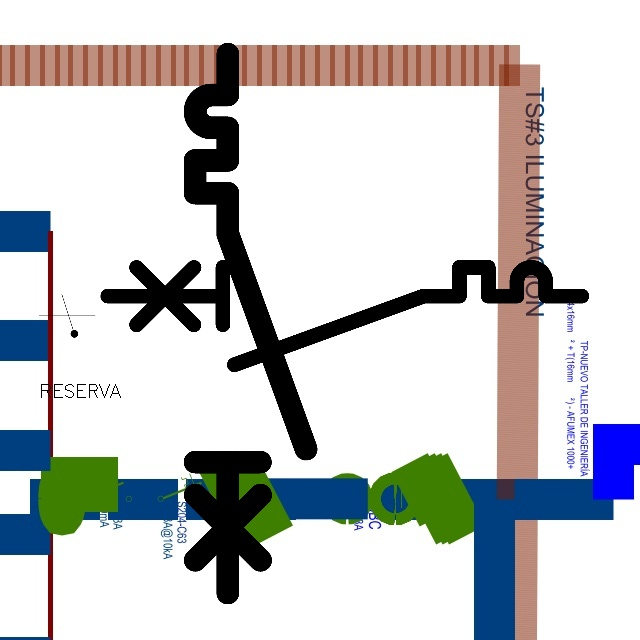interruptor_termomagnetico: (181, 40, 320, 607), (95, 255, 593, 377)
